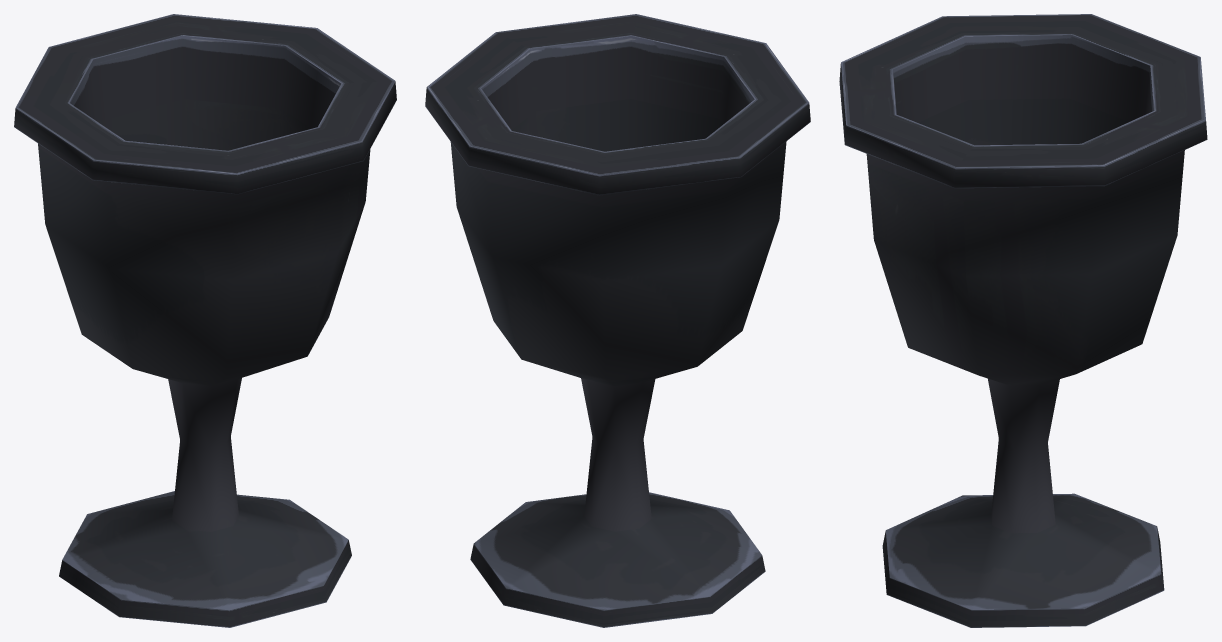
Rendered from SM_PROP_cup_interior_03.fbx.
3 renders of one model, left to right at view 1: azimuth 30°, elevation 25°; view 2: azimuth 150°, elevation 25°; view 3: azimuth 270°, elevation 25°, orthographic.
Visible parts, largest first — view 1: SM_PROP_cup_interior_03; view 2: SM_PROP_cup_interior_03; view 3: SM_PROP_cup_interior_03.
Boxes of the visible parts, x1,y1,x2,y2 form: SM_PROP_cup_interior_03: (14, 14, 396, 627); SM_PROP_cup_interior_03: (425, 14, 810, 627); SM_PROP_cup_interior_03: (839, 14, 1207, 627).
Bounding box in the file's own units: 17.24 × 24.72 × 17.24.
